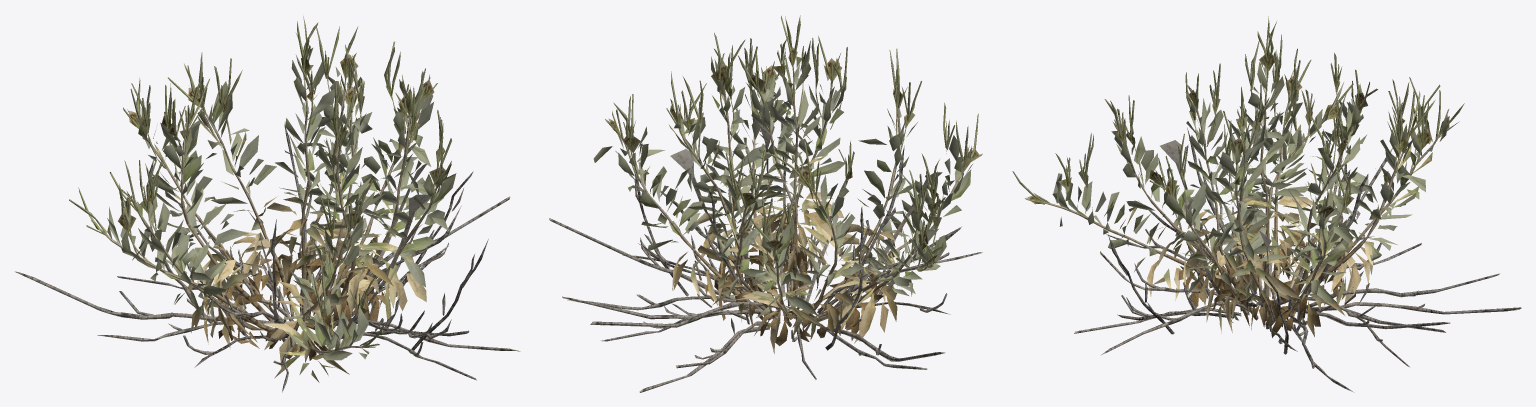
File: SM_Foliage_02.fbx
3 views of the same model, side by side, from view 1: azimuth 30°, elevation 25°; view 2: azimuth 150°, elevation 25°; view 3: azimuth 270°, elevation 25° (orthographic). The views are drawn at different scales.
Parts seen in each view (by area): view 1: SM_Foliage_02_LOD0; view 2: SM_Foliage_02_LOD0; view 3: SM_Foliage_02_LOD0.
Part boxes in pixels (<box>): SM_Foliage_02_LOD0: <box>15,16,520,392</box>; SM_Foliage_02_LOD0: <box>549,15,982,392</box>; SM_Foliage_02_LOD0: <box>1012,16,1521,392</box>.
Size of the model in its own units: 133 by 138 by 89.59.
1 material, 1 textured.
